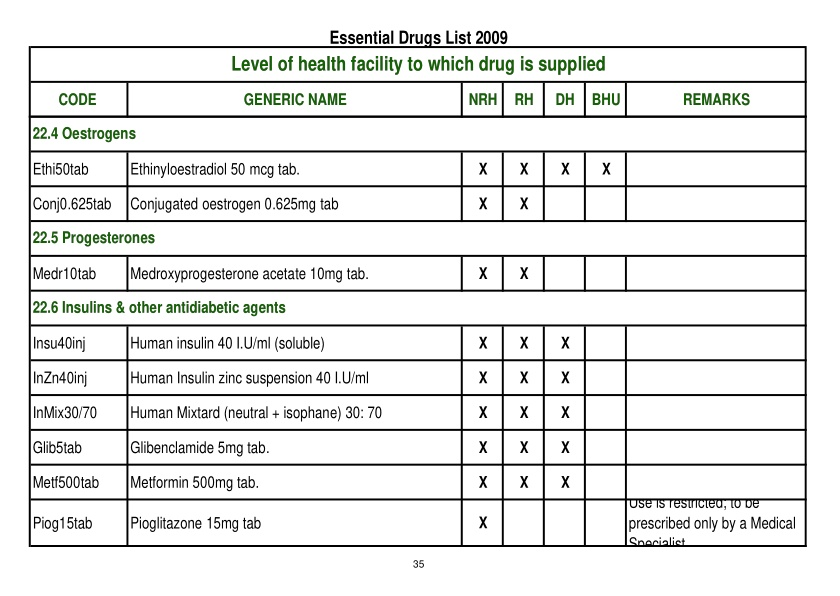merged_cells: (28, 45, 808, 547)
